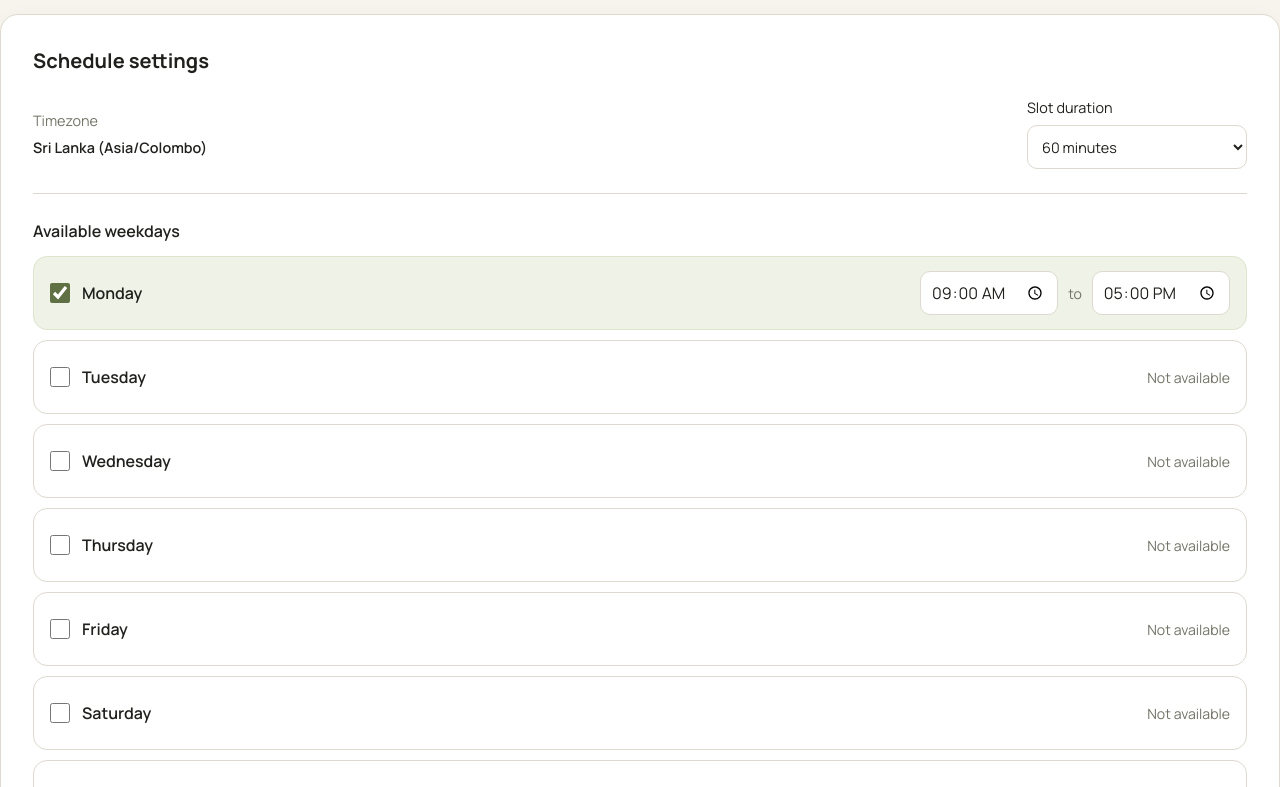
Scenario: Viewing availability editor › clears disabled weekday times in the outgoing contract
Click the checkbox named "Monday enabled": (60, 293) [50, 283, 70, 303]
(page scrolled)
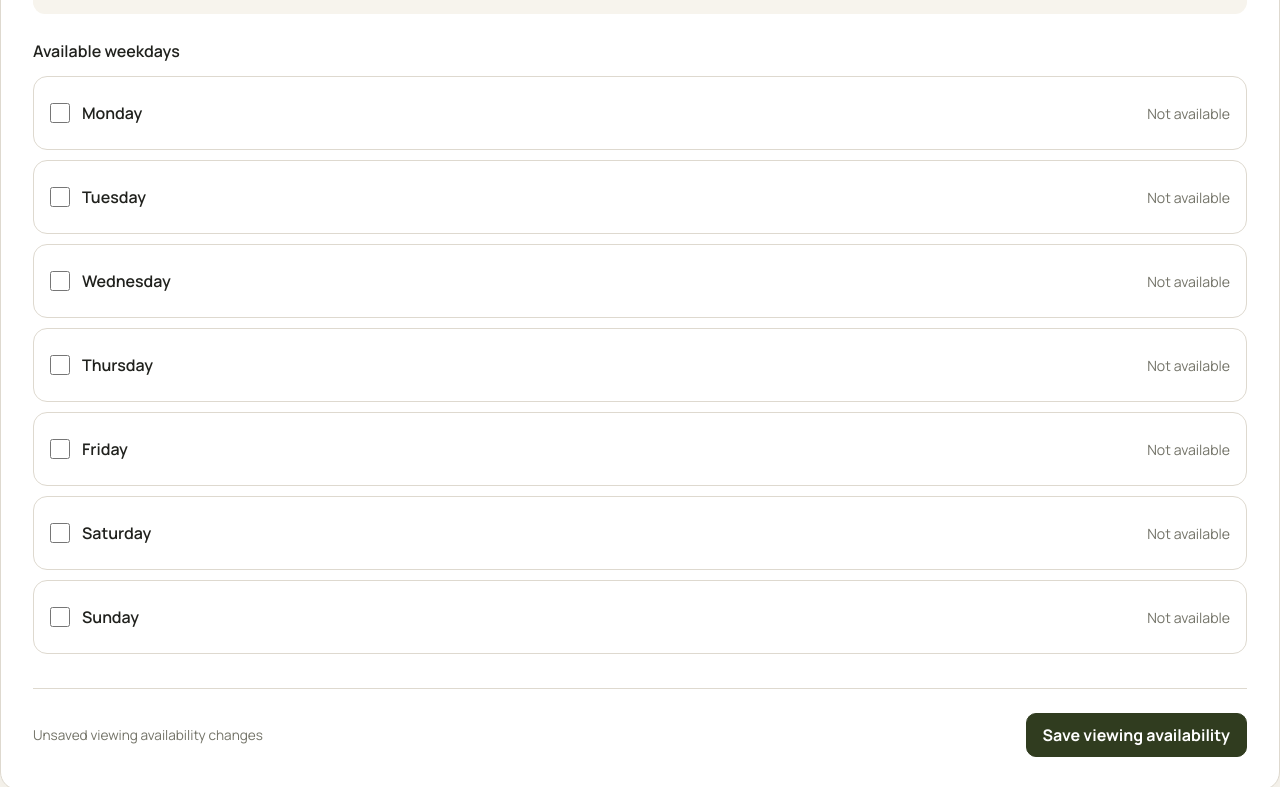
Click the button "Save viewing availability": (1136, 735) [1026, 713, 1247, 757]
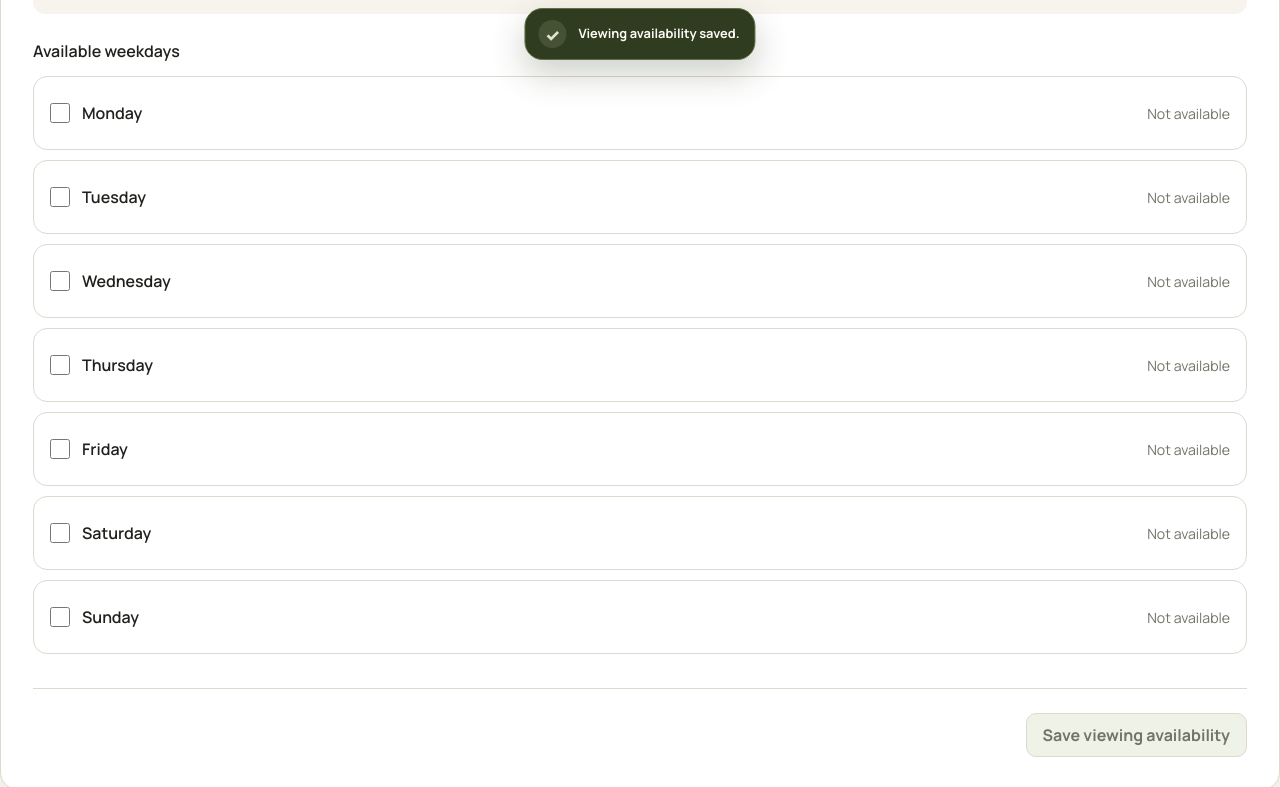
Now the text "Viewing availability saved." is shown, box [578, 25, 740, 43]
